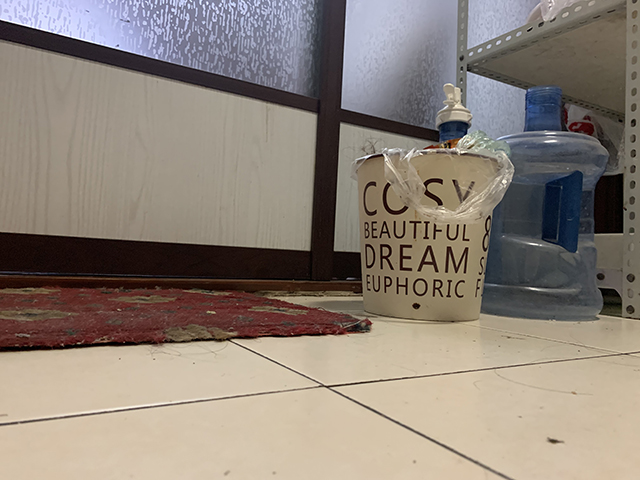carpet: (1, 285, 373, 353)
trashcan: (349, 146, 501, 323)
